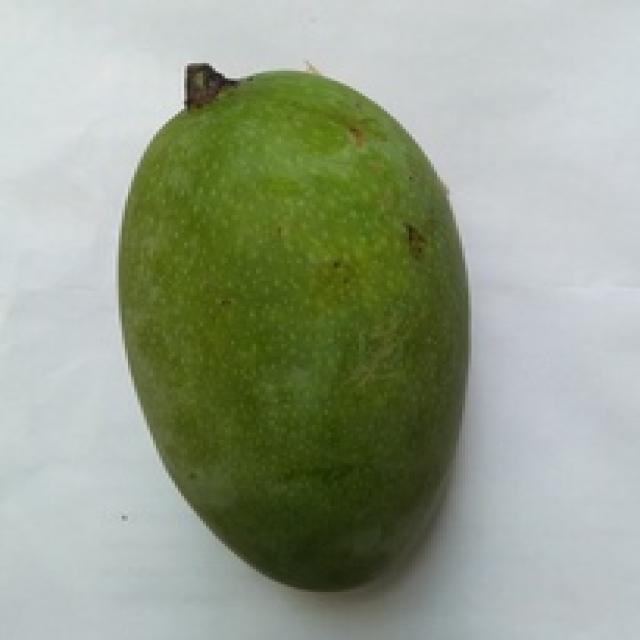Mango: (122, 71, 462, 587)
